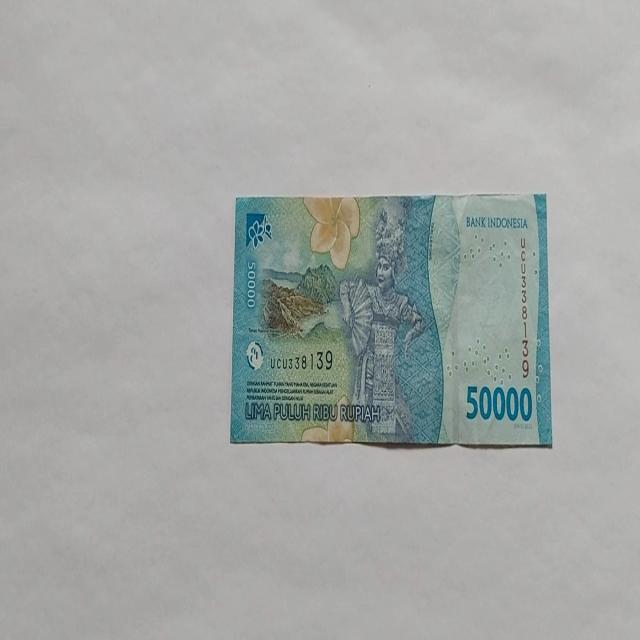lima puluh ribu rupiah: (229, 192, 553, 448), (338, 207, 426, 443)
